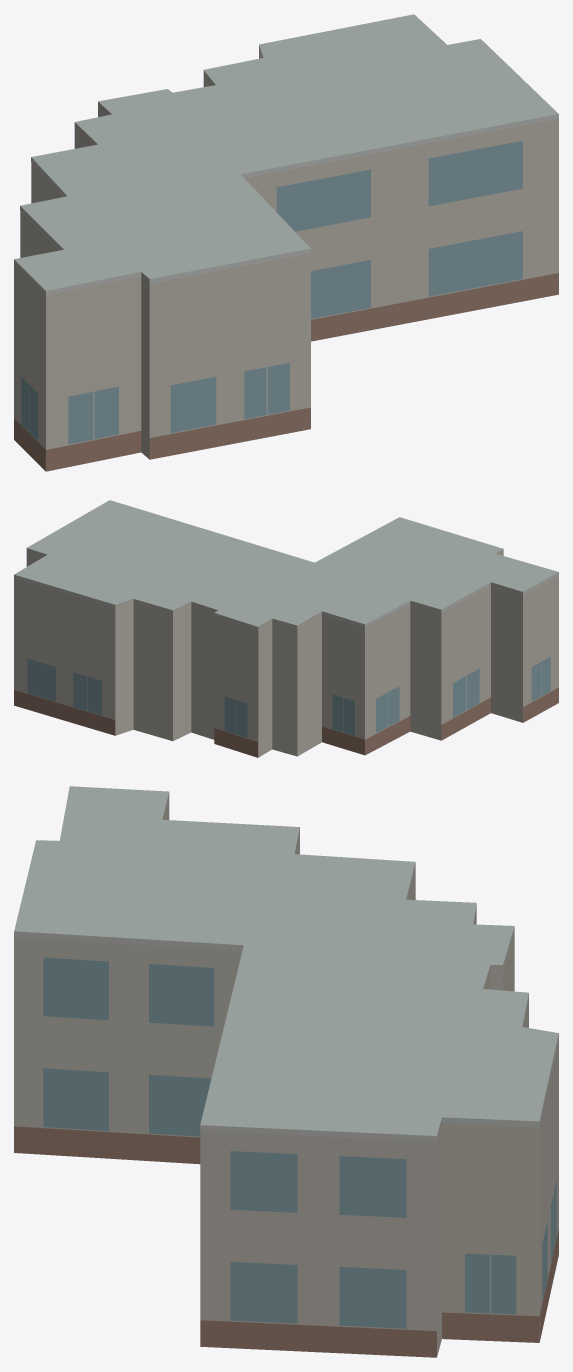
Rendered from survey-upis-32472246.glb.
The picture shows the model from 3 angles, top to bottom: view 1: azimuth 30°, elevation 25°; view 2: azimuth 150°, elevation 25°; view 3: azimuth 270°, elevation 25°; orthographic projection. The views are drawn at different scales.
Parts seen in each view (by area): view 1: survey-upis-32472246.tmp; view 2: survey-upis-32472246.tmp; view 3: survey-upis-32472246.tmp.
Part boxes in pixels (x1,y1,x2,y2): survey-upis-32472246.tmp: (14,14,558,471); survey-upis-32472246.tmp: (14,500,558,757); survey-upis-32472246.tmp: (14,786,558,1357).
Bounding box in the file's own units: 30.83 × 9.1 × 20.29.
